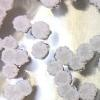white: (31, 20, 52, 40), (54, 45, 74, 65), (67, 51, 87, 71), (76, 42, 94, 63), (78, 81, 97, 100), (16, 78, 34, 98), (12, 14, 30, 33), (1, 84, 22, 100), (15, 46, 30, 68), (31, 41, 49, 59), (46, 60, 64, 76), (54, 70, 72, 86), (2, 47, 16, 65), (1, 64, 19, 77), (62, 87, 80, 100), (1, 35, 17, 49), (89, 34, 100, 54), (56, 83, 72, 96), (40, 0, 62, 8), (0, 9, 8, 29), (0, 0, 14, 11), (88, 0, 100, 11)
